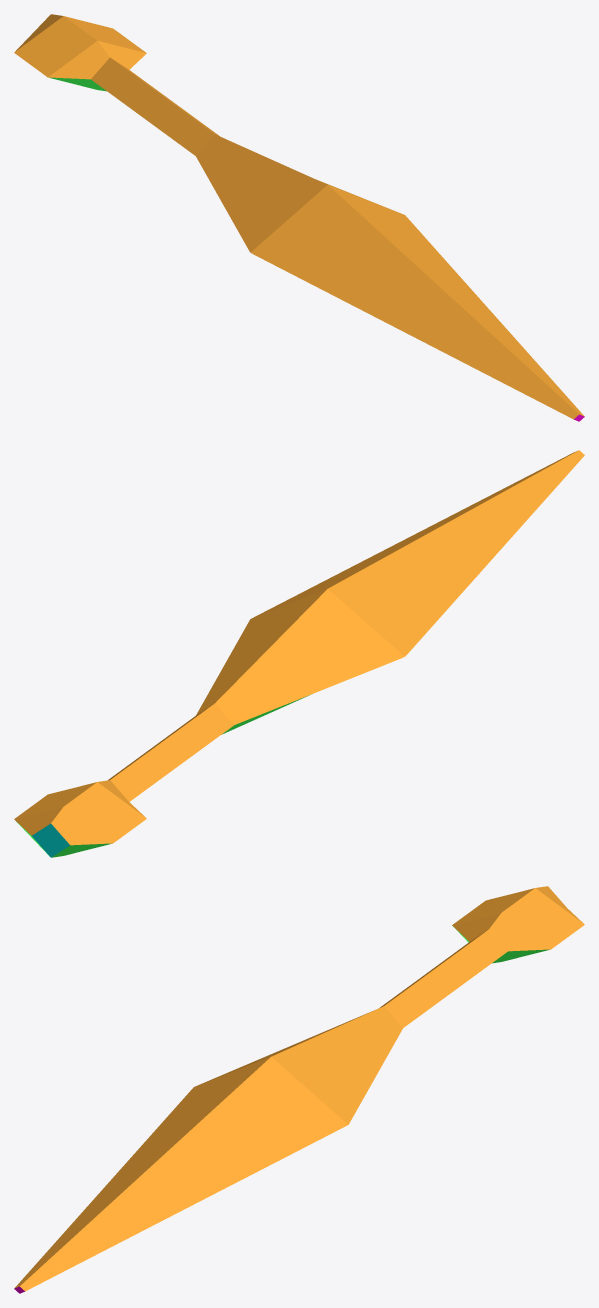
Rendered from KunaiModel.fbx.
3 renders of one model, top to bottom at view 1: azimuth 30°, elevation 25°; view 2: azimuth 150°, elevation 25°; view 3: azimuth 330°, elevation 25°, orthographic.
Visible parts, largest first — view 1: pCube1; view 2: pCube1; view 3: pCube1.
Part boxes in pixels (x1=…): pCube1: x1=14, y1=14, x2=584, y2=421; pCube1: x1=14, y1=450, x2=584, y2=857; pCube1: x1=14, y1=886, x2=584, y2=1293.
Size of the model in its own units: 3.55 by 2.16 by 21.
Materials: 1 (1 with a texture image).
